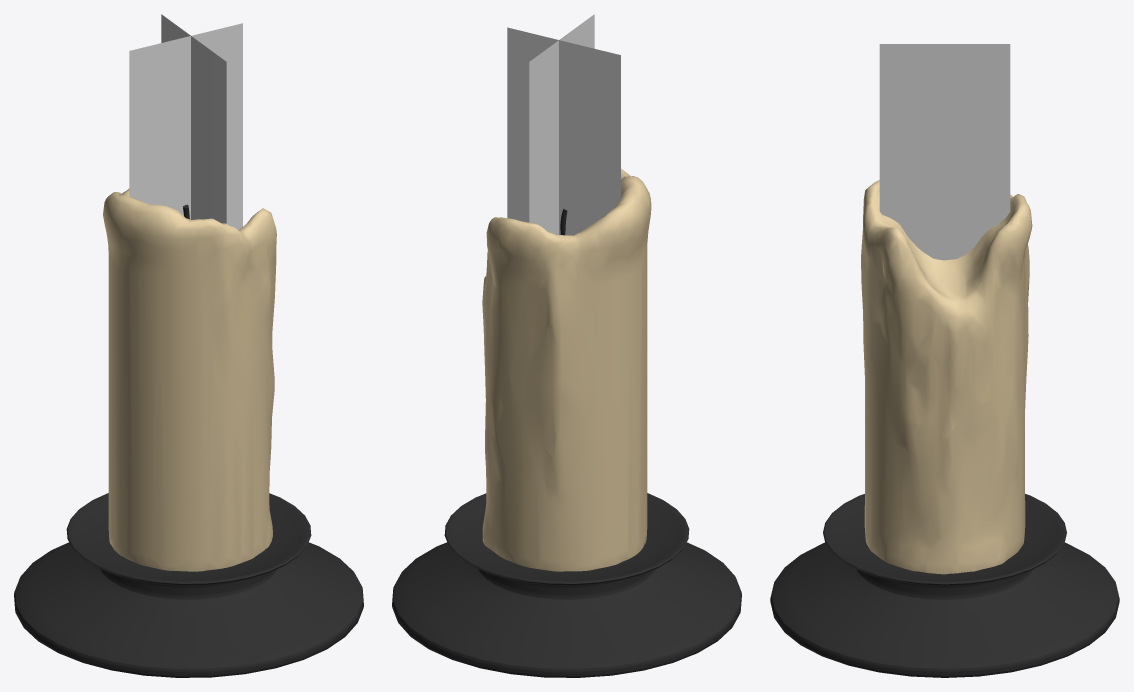
File: candle.fbx
3 renders of one model, left to right at view 1: azimuth 30°, elevation 25°; view 2: azimuth 150°, elevation 25°; view 3: azimuth 270°, elevation 25°, orthographic.
Visible parts, largest first — view 1: Cylinder.003, Circle.001, flame.001, flame; view 2: Cylinder.003, Circle.001, flame.001, flame; view 3: Cylinder.003, Circle.001, flame.
Boxes of the visible parts, x1=… form: Cylinder.003: x1=103, y1=189, x2=276, y2=571; Circle.001: x1=14, y1=493, x2=363, y2=677; flame.001: x1=129, y1=23, x2=242, y2=230; flame: x1=161, y1=14, x2=226, y2=223; Cylinder.003: x1=482, y1=169, x2=651, y2=571; Circle.001: x1=392, y1=493, x2=741, y2=677; flame.001: x1=507, y1=27, x2=620, y2=235; flame: x1=529, y1=14, x2=594, y2=234; Cylinder.003: x1=861, y1=180, x2=1032, y2=574; Circle.001: x1=770, y1=494, x2=1119, y2=677; flame: x1=879, y1=44, x2=1010, y2=260.
Bounding box in the file's own units: 12.15 × 21.65 × 12.15.
